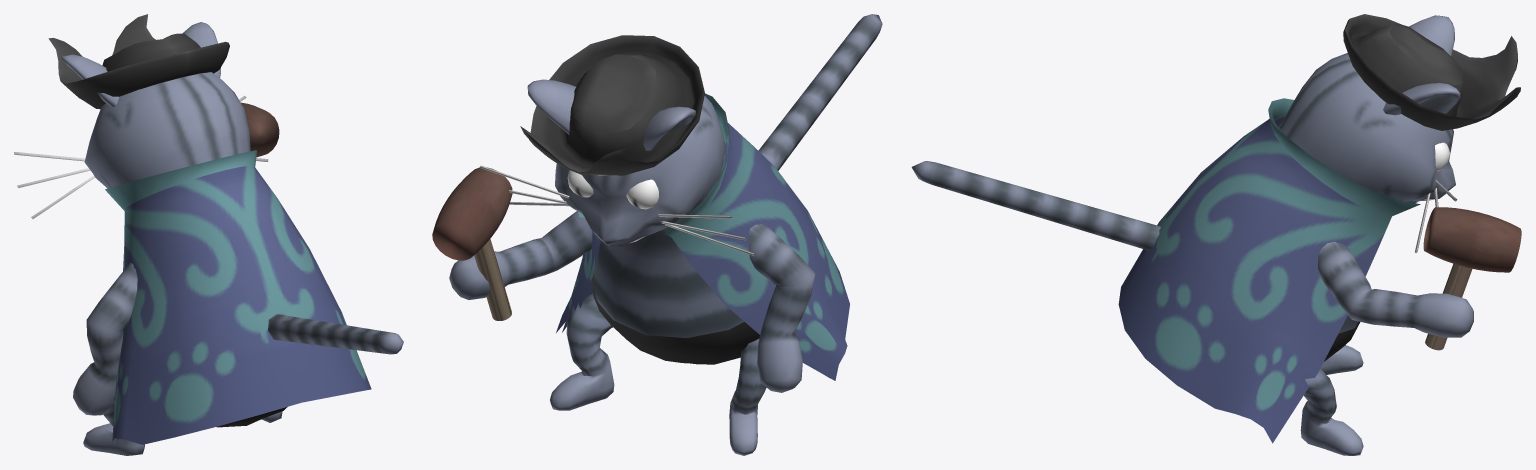
Rendered from neko_fix_06.fbx.
The picture shows the model from 3 angles, left to right: view 1: azimuth 30°, elevation 25°; view 2: azimuth 150°, elevation 25°; view 3: azimuth 270°, elevation 25°; orthographic projection. The views are drawn at different scales.
Visible parts, largest first — view 1: F_06; view 2: F_06; view 3: F_06.
Boxes of the visible parts, x1,y1,x2,y2 form: F_06: (14, 14, 403, 455); F_06: (432, 14, 882, 455); F_06: (911, 14, 1521, 455).
Size of the model in its own units: 1.12 by 1.5 by 2.17.
Materials: 1 (1 with a texture image).
